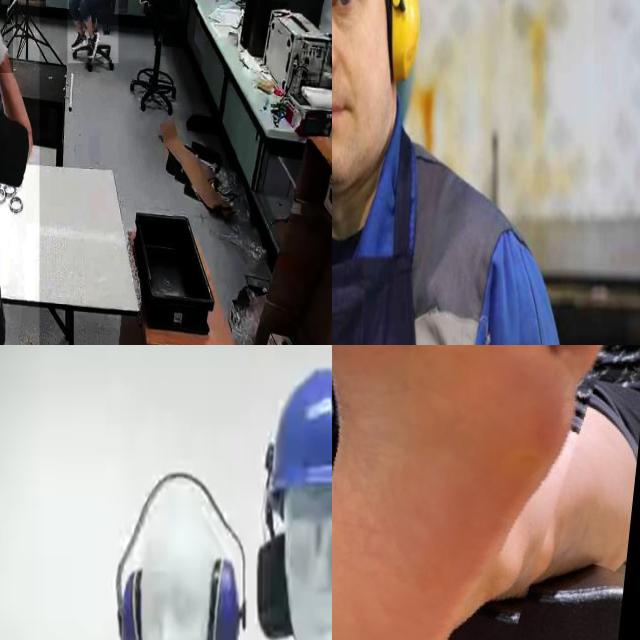Barefoots: (332, 345, 597, 640)
Ear-protection: (118, 451, 247, 640), (332, 0, 419, 188), (255, 459, 332, 640)
hand_glove: (0, 0, 13, 73)
person: (332, 0, 570, 345), (67, 0, 118, 63)
shoes: (69, 28, 89, 54), (86, 28, 101, 62)
